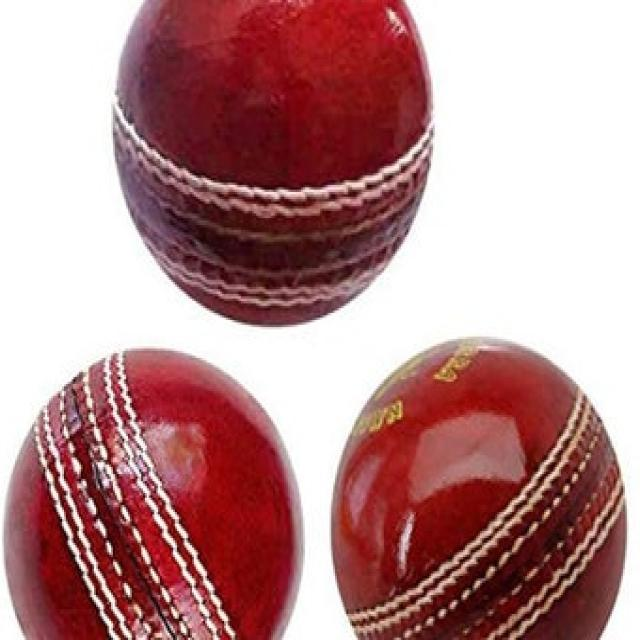cricket ball: (111, 1, 435, 327), (329, 336, 628, 638), (1, 347, 305, 638)
